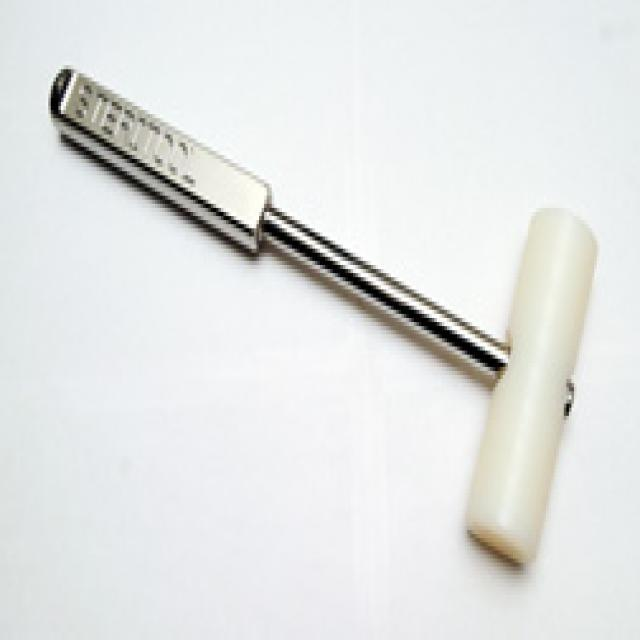hammer: (38, 48, 602, 600)
